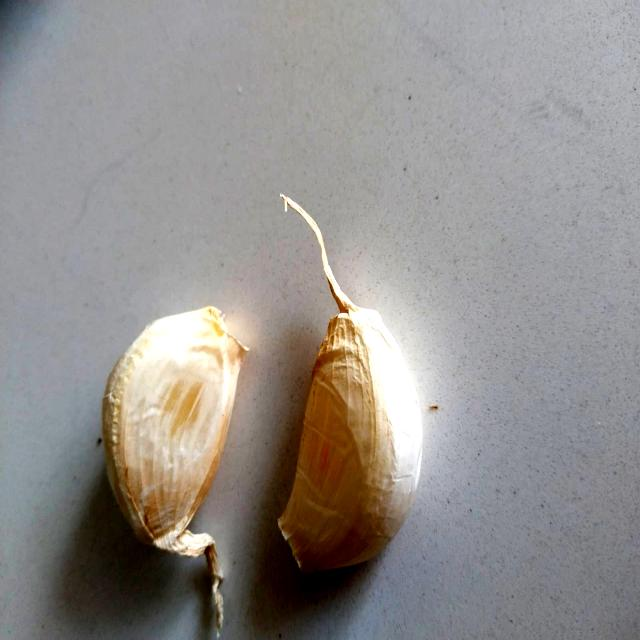garlic: (257, 280, 465, 571), (71, 286, 268, 572)
